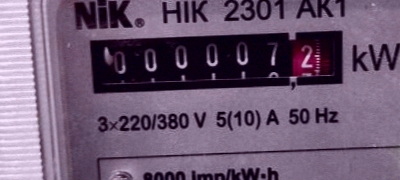0: (172, 44, 191, 71), (142, 46, 160, 74), (234, 39, 251, 68), (112, 49, 129, 76), (204, 41, 220, 68)
2: (299, 42, 316, 71)
7: (264, 40, 281, 69)
screen: (82, 22, 356, 100)
